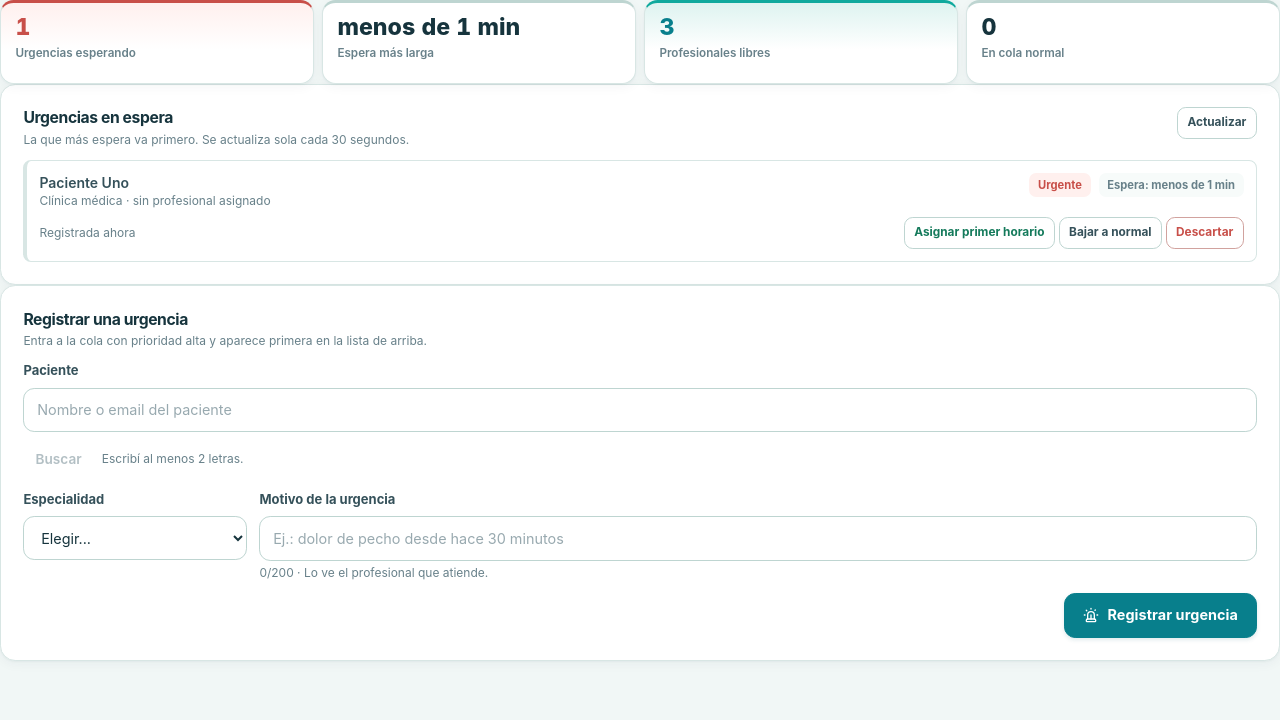
Test: SeccionUrgencias — acciones › si no hay horarios hoy ni mañana, lo explica y NO agenda
Click the button "Asignar primer horario".
click(979, 233)  # box [904,217,1055,249]
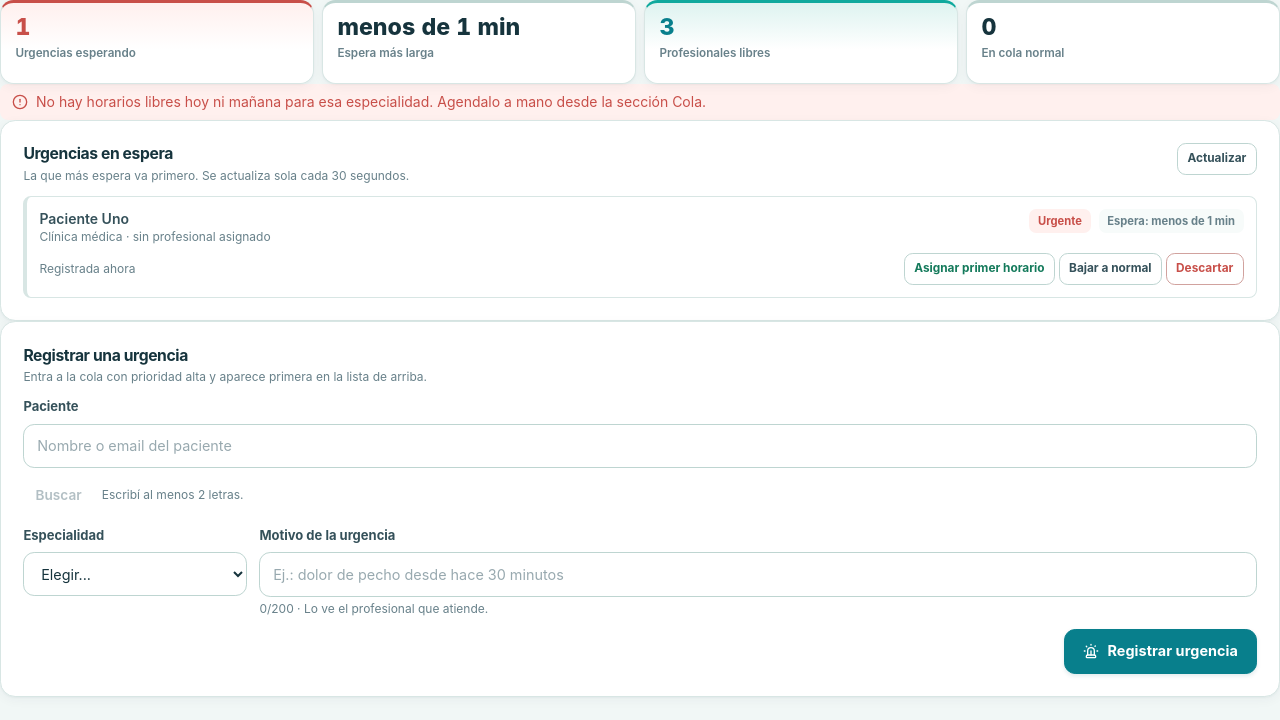
Expected: the text "No hay horarios libres hoy ni mañana" is shown, [36,93,706,110]
